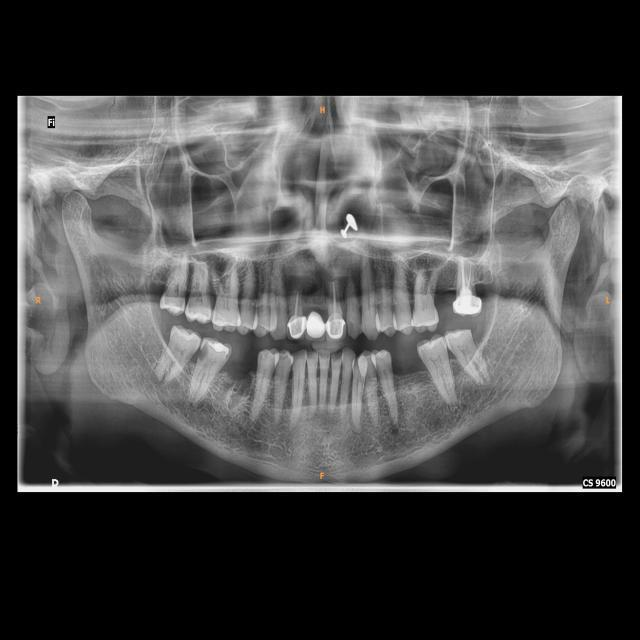dentin-curugu: (196, 346, 208, 365)
dolgu: (204, 336, 230, 356)
kanal-tedavisi: (456, 256, 472, 292), (328, 276, 339, 313), (292, 288, 302, 315)
kaplama: (454, 292, 483, 316), (324, 311, 346, 338), (286, 316, 307, 337)
kok-enfeksiyonu: (383, 407, 407, 442)
kopru: (303, 308, 328, 342)
